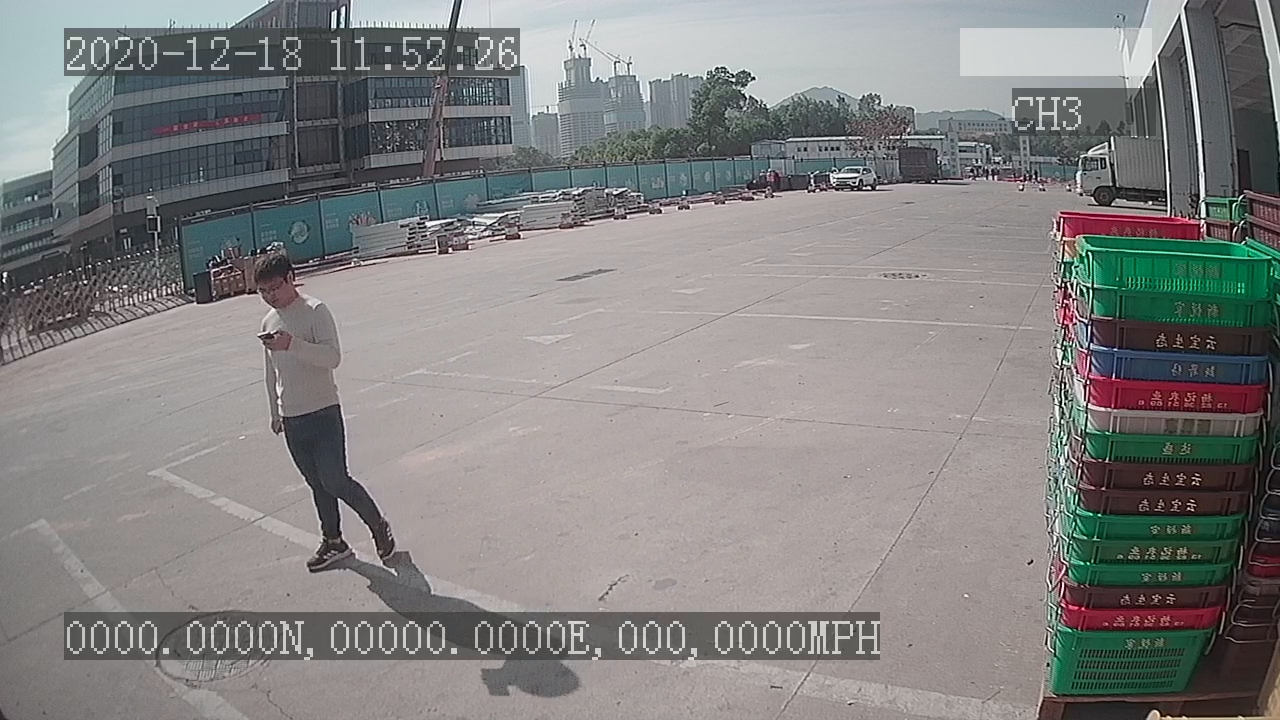person: (242, 240, 402, 577)
